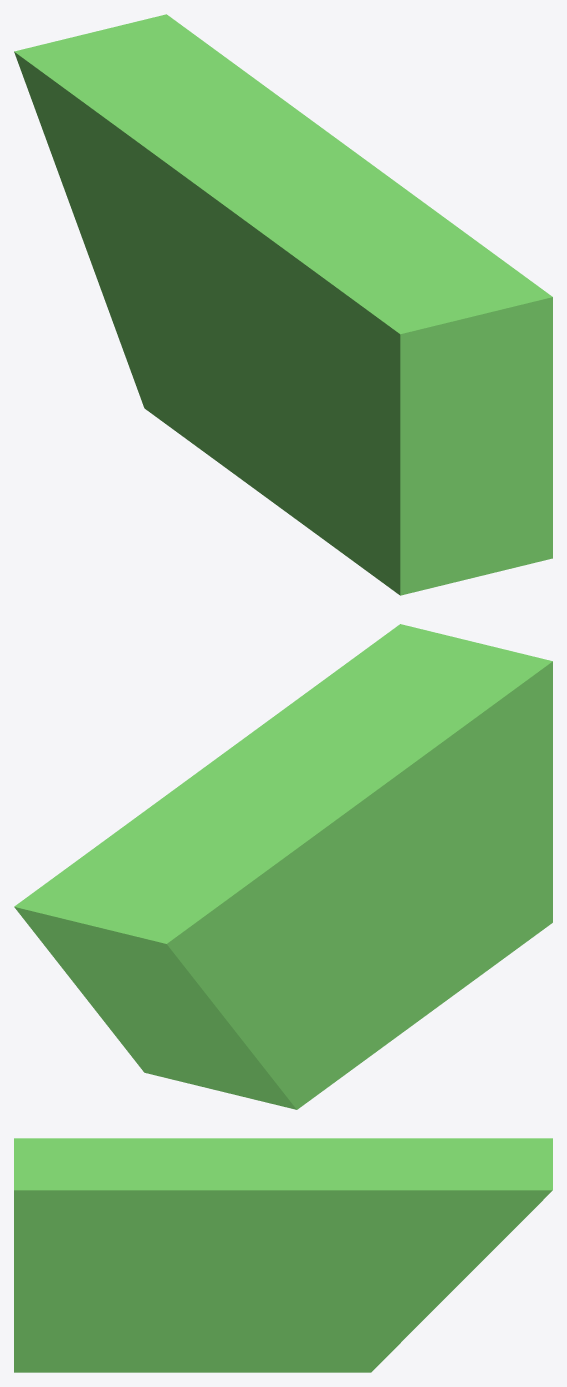
The model's file is sm_Collider37.fbx.
3 views of the same model, one above another, from view 1: azimuth 30°, elevation 25°; view 2: azimuth 150°, elevation 25°; view 3: azimuth 270°, elevation 25° (orthographic). The views are drawn at different scales.
Visible parts, largest first — view 1: sm_Collider.046; view 2: sm_Collider.046; view 3: sm_Collider.046.
Part boxes in pixels (x1,y1,x2,y2): sm_Collider.046: (14,14,552,595); sm_Collider.046: (14,624,552,1109); sm_Collider.046: (14,1138,552,1372).
Bounding box in the file's own units: 215 × 352 × 943.
